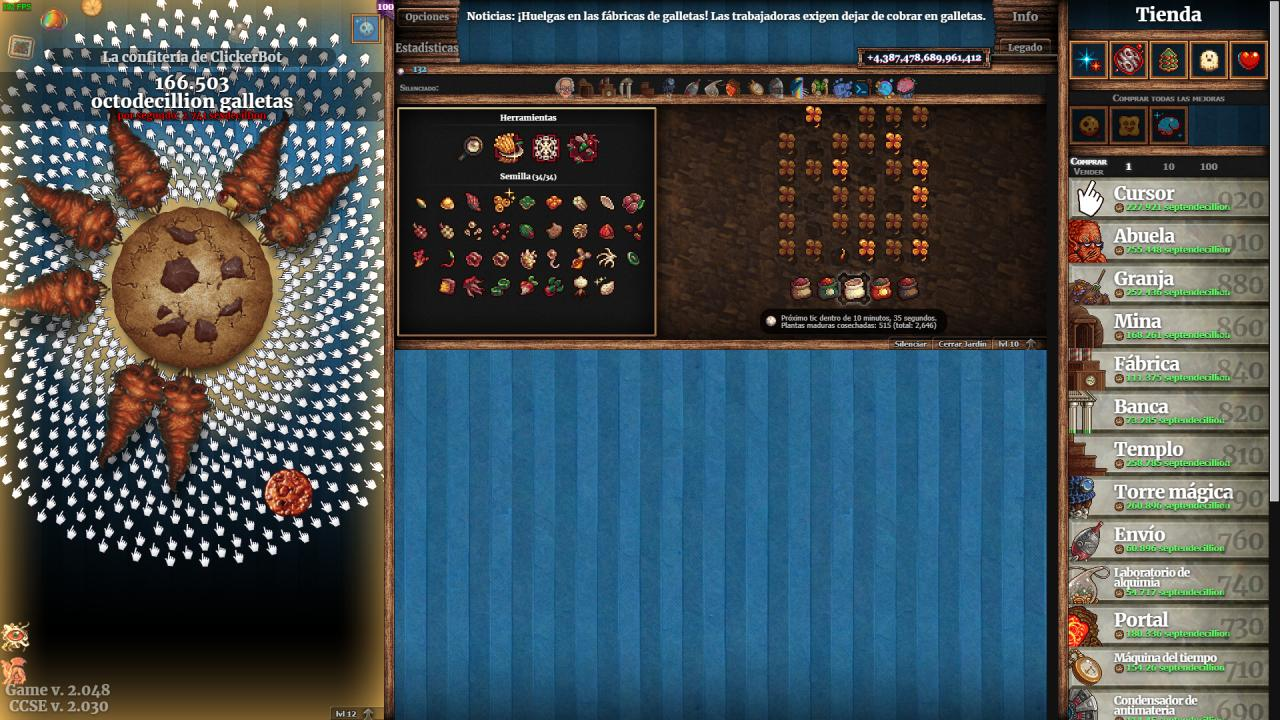RedCookie: (264, 468, 314, 518)
